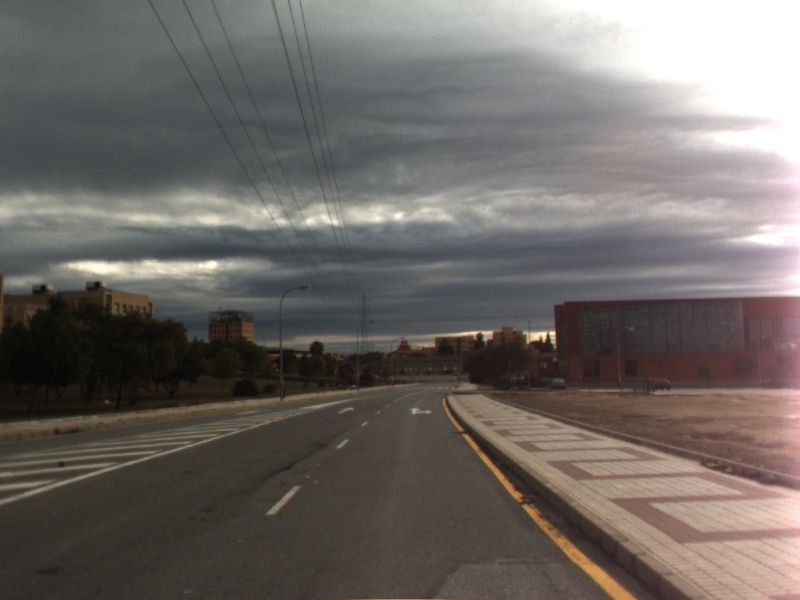STRAIGHT: (335, 404, 356, 416)
STRAIGHT_RIGHT: (406, 405, 435, 417)
